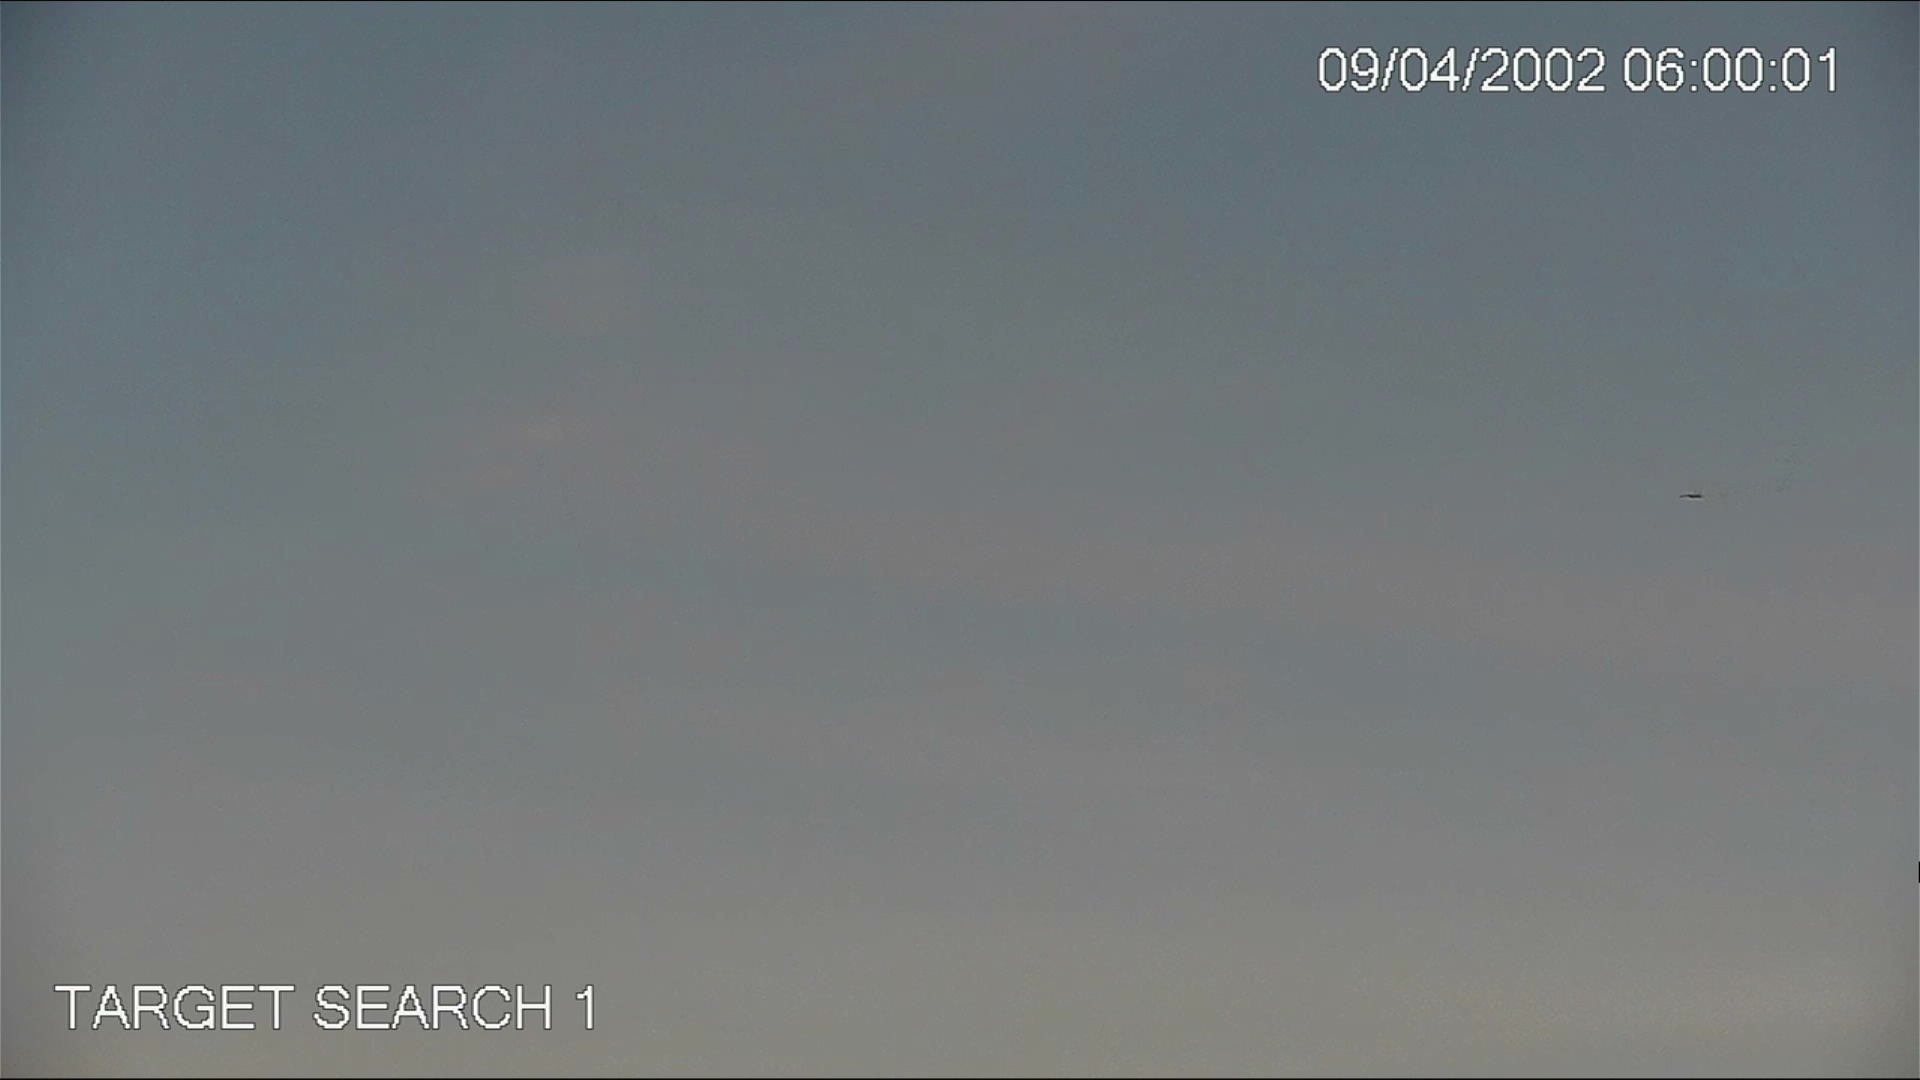SU_30: (1681, 488, 1702, 501)
